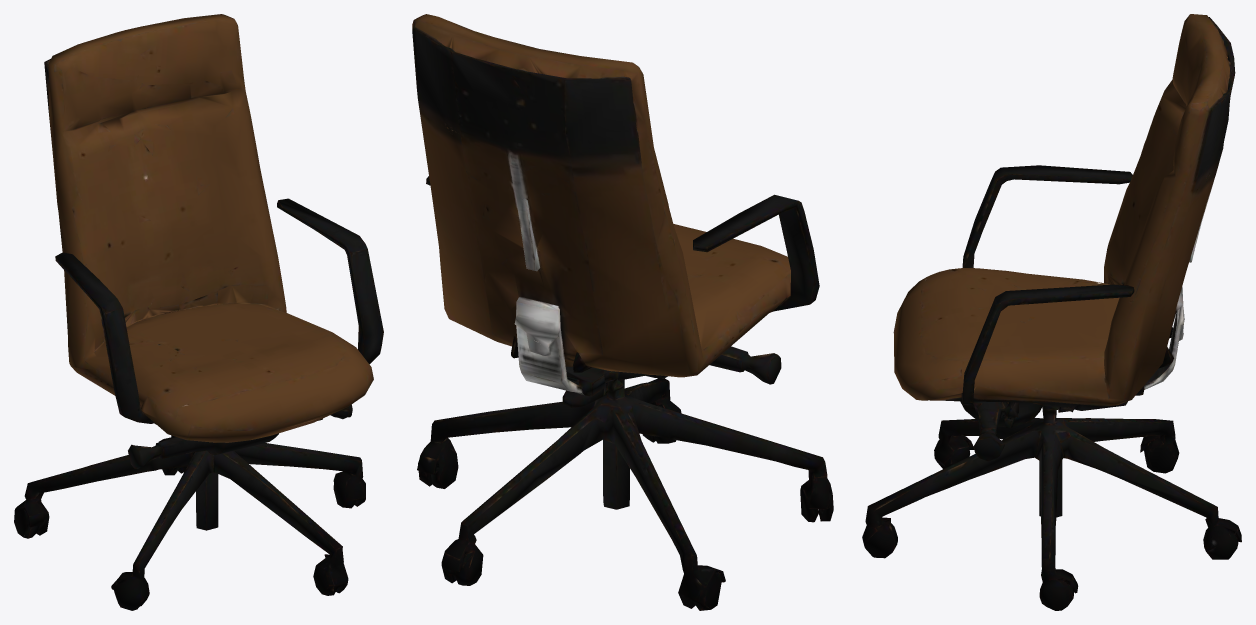
Rendered from yd4iI_3XG2jio_LpNi3rA.glb.
3 views of the same model, side by side, from view 1: azimuth 30°, elevation 25°; view 2: azimuth 150°, elevation 25°; view 3: azimuth 270°, elevation 25° (orthographic). The views are drawn at different scales.
Visible parts, largest first — view 1: geometry_0; view 2: geometry_0; view 3: geometry_0.
Boxes of the visible parts, x1,y1,x2,y2 form: geometry_0: (14, 14, 383, 610); geometry_0: (412, 14, 833, 610); geometry_0: (862, 14, 1241, 610).
Bounding box in the file's own units: 0.6759 × 1 × 0.7213.
1 material, 1 textured.
